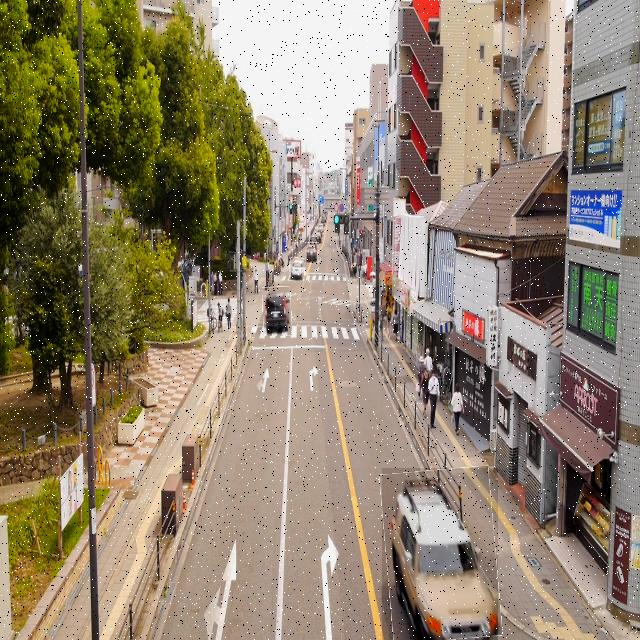Car: (382, 468, 498, 640), (263, 287, 291, 336), (290, 258, 306, 281), (305, 242, 319, 263)
